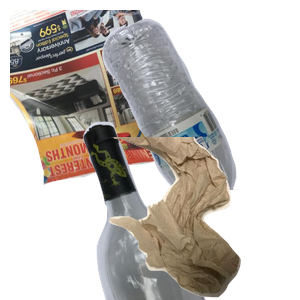glass: (81, 120, 300, 300)
paper: (10, 10, 230, 188)
plastic: (100, 16, 300, 196)
trash: (103, 137, 300, 300)
